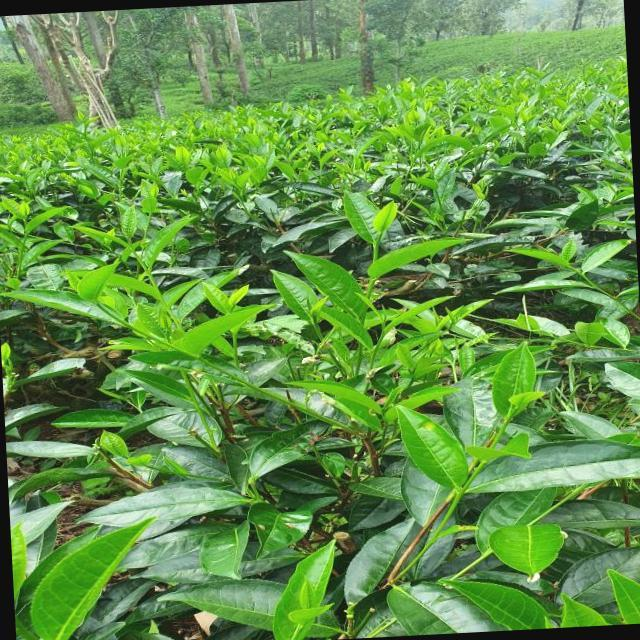Stem: (505, 416, 510, 421), (374, 245, 378, 251), (146, 270, 150, 275), (381, 334, 384, 338), (569, 266, 572, 269)
